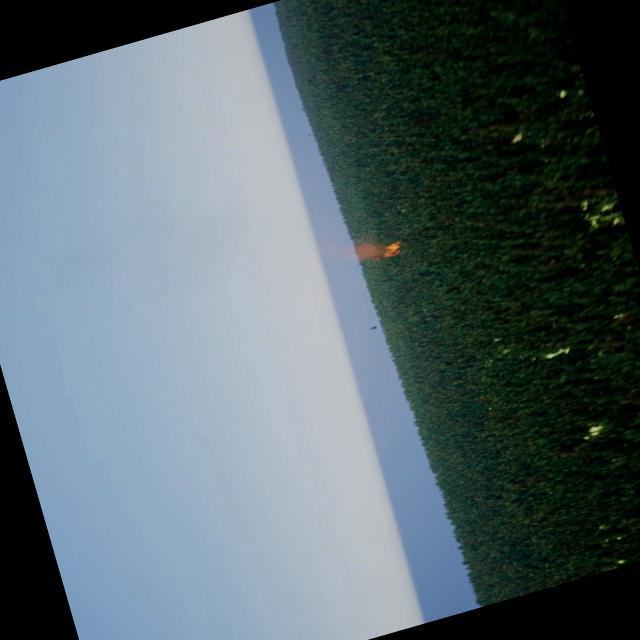fire: (380, 240, 404, 260)
smoke: (348, 239, 381, 264)
